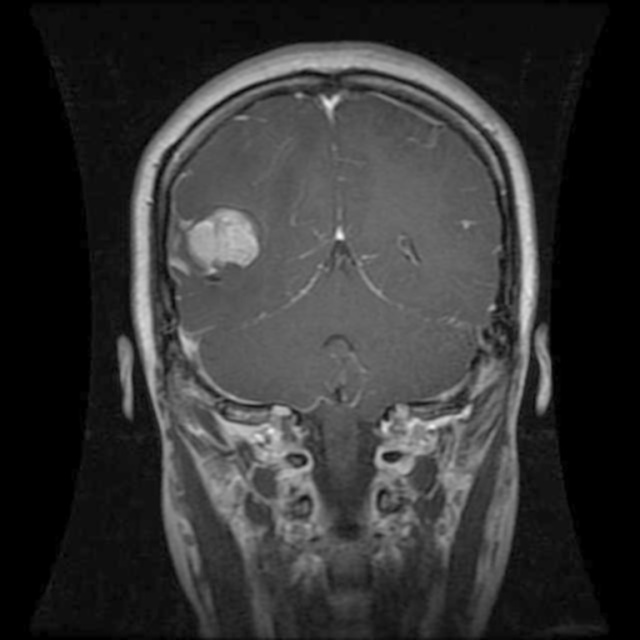pituitary tumor: (181, 212, 260, 266)
